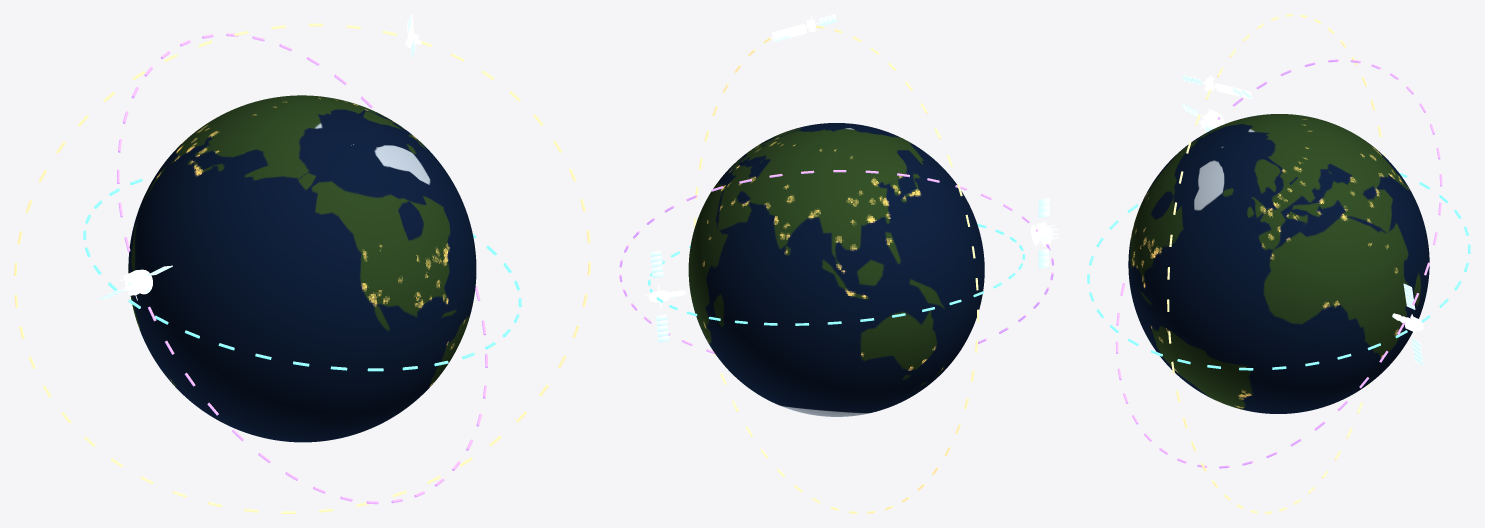
Rendered from background-model.glb.
The picture shows the model from 3 angles, left to right: view 1: azimuth 30°, elevation 25°; view 2: azimuth 150°, elevation 25°; view 3: azimuth 270°, elevation 25°; orthographic projection. The views are drawn at different scales.
Visible parts, largest first — view 1: Core_Earth, Orbit_Ring_03, Orbit_Ring_02, Orbit_Ring_01, Sat_GLONASS_K; view 2: Core_Earth, Orbit_Ring_03, Orbit_Ring_02, Sat_ResursP, Sat_GLONASS_K, Orbit_Ring_01, Sat_Sentinel1; view 3: Core_Earth, Orbit_Ring_02, Orbit_Ring_03, Orbit_Ring_01, Sat_ResursP, Sat_Sentinel1, Sat_GLONASS_K.
Boxes of the visible parts, bbox=[...] form: Core_Earth: bbox=[128, 95, 476, 442]; Orbit_Ring_03: bbox=[14, 23, 590, 513]; Orbit_Ring_02: bbox=[117, 33, 487, 504]; Orbit_Ring_01: bbox=[83, 178, 521, 371]; Sat_GLONASS_K: bbox=[99, 265, 172, 300]; Core_Earth: bbox=[688, 123, 984, 416]; Orbit_Ring_03: bbox=[694, 26, 978, 513]; Orbit_Ring_02: bbox=[619, 170, 1053, 353]; Sat_ResursP: bbox=[644, 250, 686, 342]; Sat_GLONASS_K: bbox=[1031, 198, 1058, 268]; Orbit_Ring_01: bbox=[648, 223, 1025, 325]; Sat_Sentinel1: bbox=[771, 14, 836, 42]; Core_Earth: bbox=[1128, 114, 1429, 413]; Orbit_Ring_02: bbox=[1115, 59, 1442, 468]; Orbit_Ring_03: bbox=[1167, 14, 1385, 513]; Orbit_Ring_01: bbox=[1087, 172, 1470, 370]; Sat_ResursP: bbox=[1392, 283, 1424, 364]; Sat_Sentinel1: bbox=[1182, 75, 1251, 99]; Sat_GLONASS_K: bbox=[1181, 103, 1224, 132].
Bounding box in the file's own units: 1.83 × 2 × 1.54.
Materials: 10 (1 with a texture image).
